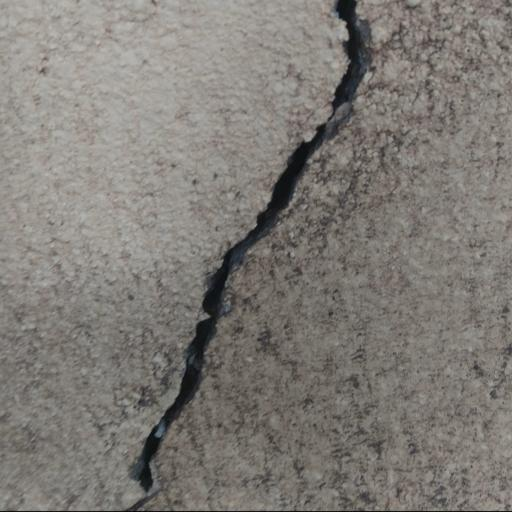major_crack: (119, 0, 381, 512)
